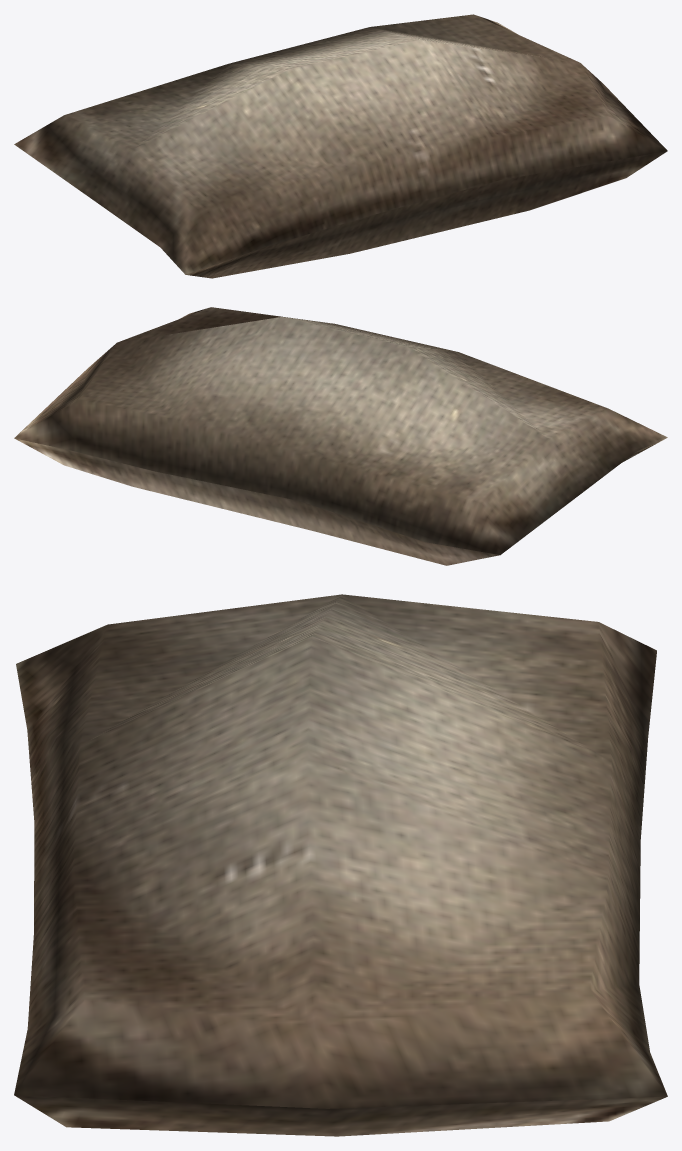
Rendered from GY_madai002.fbx.
The picture shows the model from 3 angles, top to bottom: view 1: azimuth 30°, elevation 25°; view 2: azimuth 150°, elevation 25°; view 3: azimuth 270°, elevation 25°; orthographic projection. The views are drawn at different scales.
Parts seen in each view (by area): view 1: GY_madai002; view 2: GY_madai002; view 3: GY_madai002.
Part boxes in pixels (bbox=[...]): GY_madai002: bbox=[14, 14, 667, 278]; GY_madai002: bbox=[14, 307, 667, 565]; GY_madai002: bbox=[14, 594, 667, 1136].
Bounding box in the file's own units: 145 × 41.38 × 86.84.
